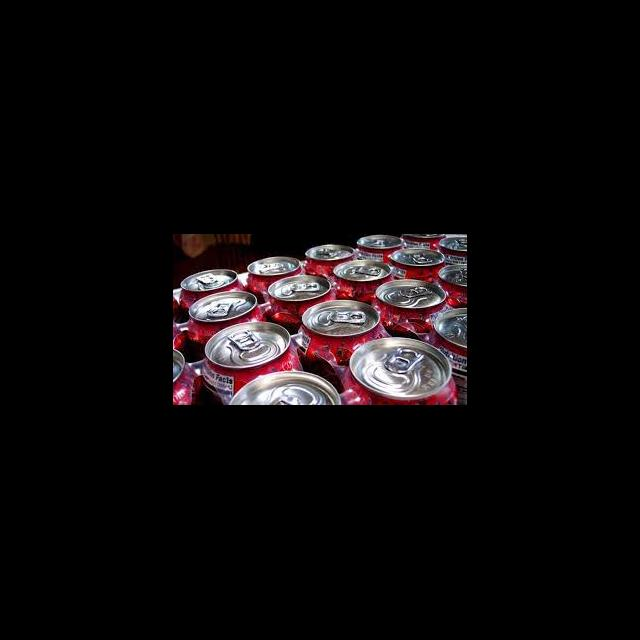metal: (339, 332, 462, 404), (198, 318, 305, 400), (292, 296, 399, 369), (184, 286, 271, 352), (370, 272, 449, 338), (221, 364, 344, 404), (261, 266, 338, 328), (241, 248, 307, 298), (176, 264, 246, 310), (383, 244, 451, 284), (425, 306, 466, 372), (299, 240, 360, 282)
